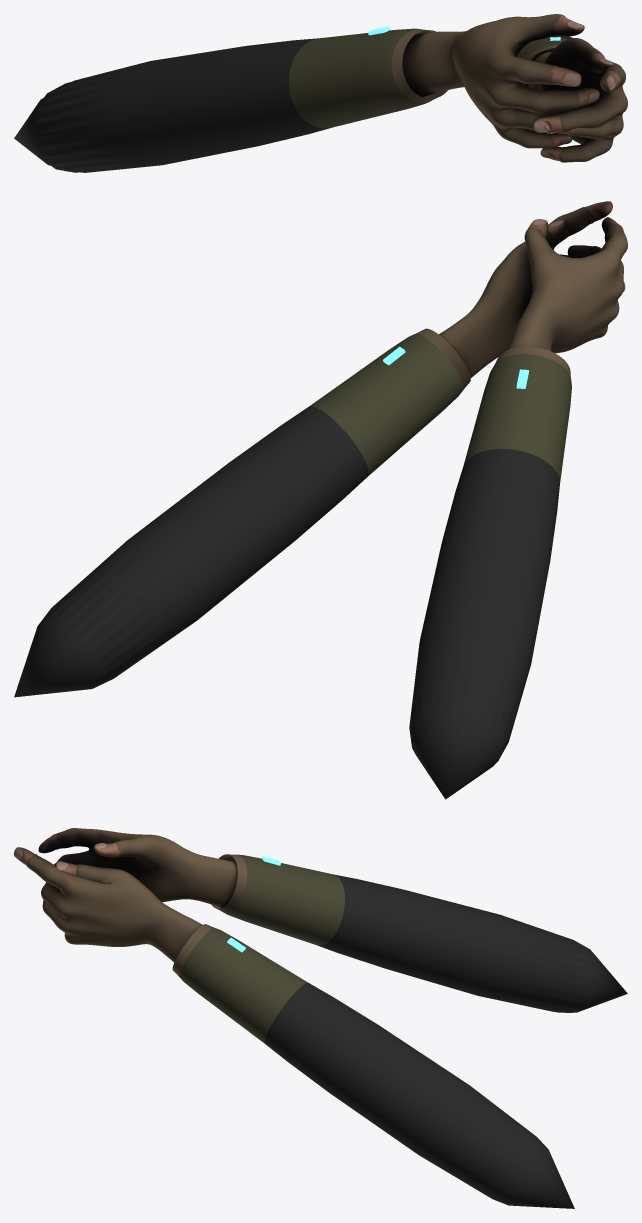
Rendered from PlayerFPHands_v5.glb.
The picture shows the model from 3 angles, top to bottom: view 1: azimuth 30°, elevation 25°; view 2: azimuth 150°, elevation 25°; view 3: azimuth 270°, elevation 25°; orthographic projection. The views are drawn at different scales.
Visible parts, largest first — view 1: PlayerFPHands_v5; view 2: PlayerFPHands_v5; view 3: PlayerFPHands_v5.
Boxes of the visible parts, <box> form: PlayerFPHands_v5: <box>14,14,627,172</box>; PlayerFPHands_v5: <box>14,201,627,799</box>; PlayerFPHands_v5: <box>14,828,627,1208</box>.
Size of the model in its own units: 0.5076 by 0.3265 by 0.6622.
Materials: 6 (3 with a texture image).
